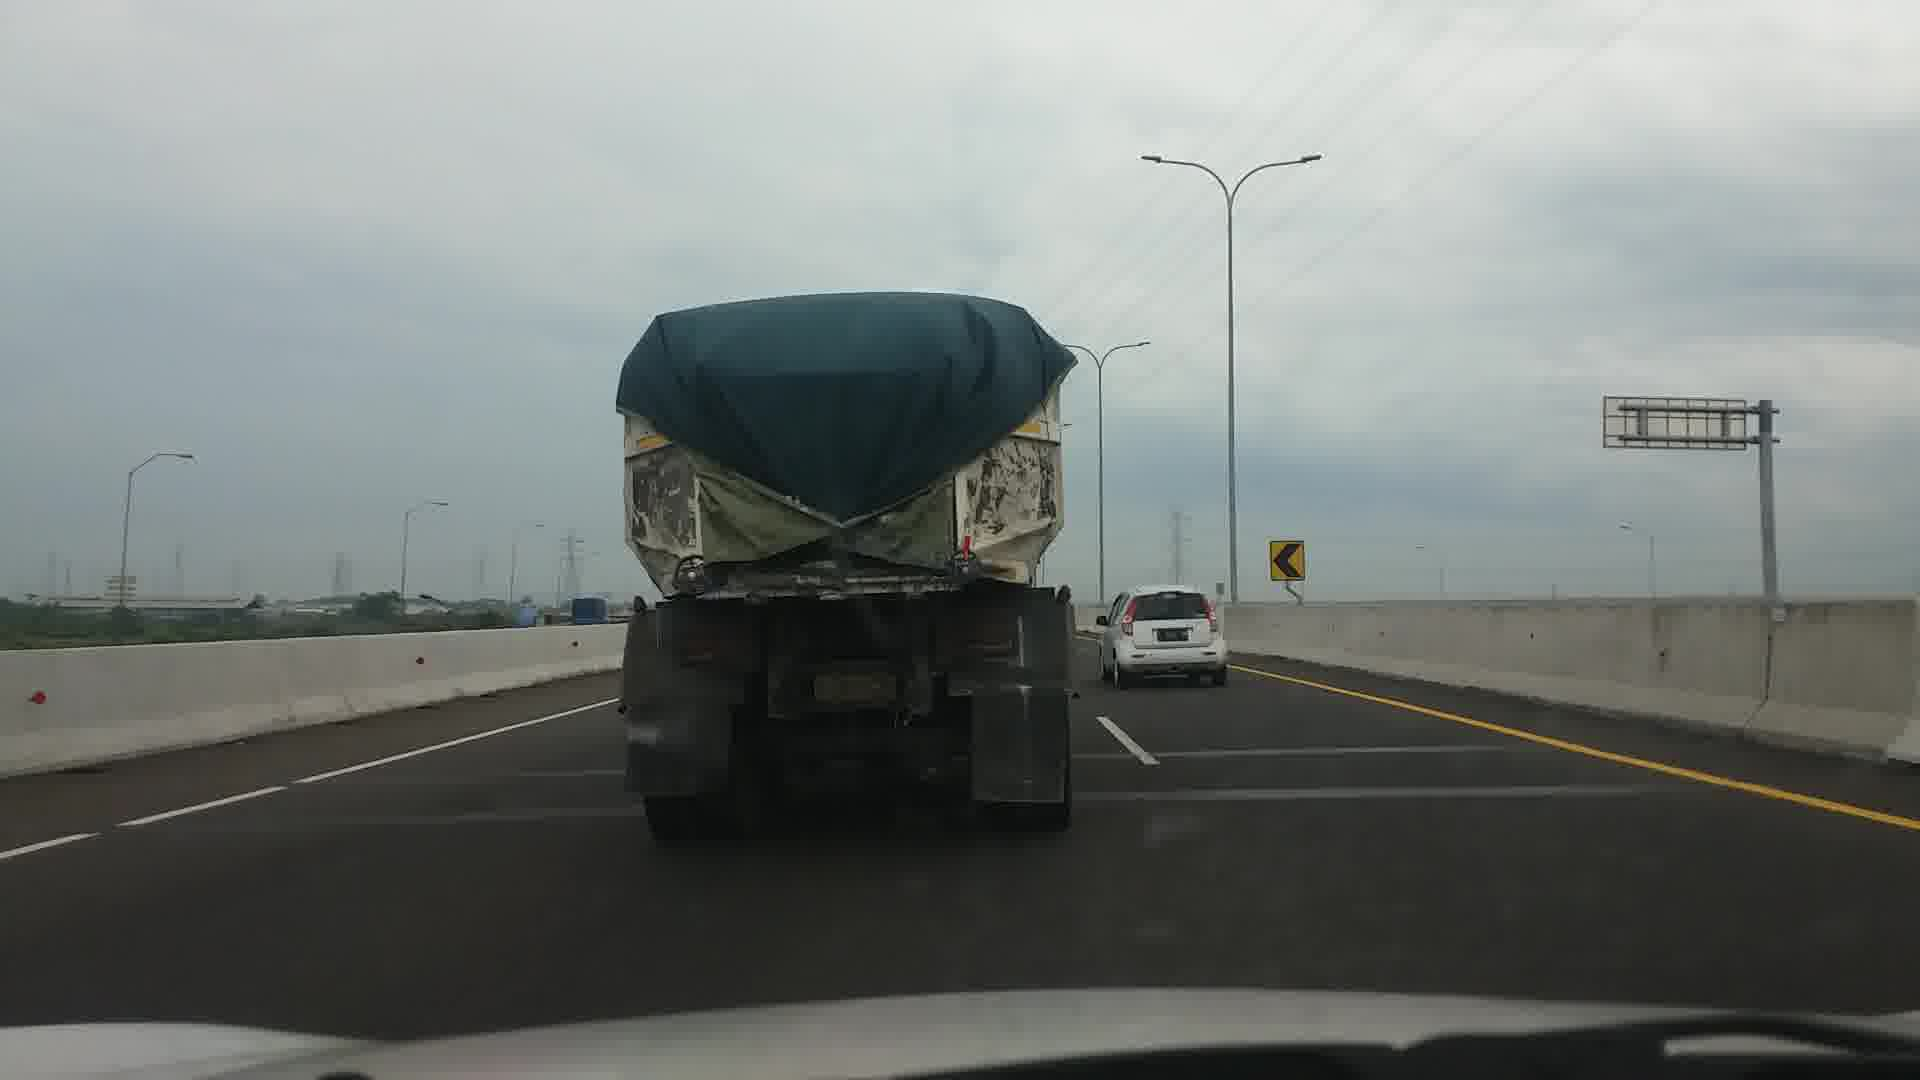plate_positive: (814, 673, 895, 702), (1156, 630, 1189, 641)
